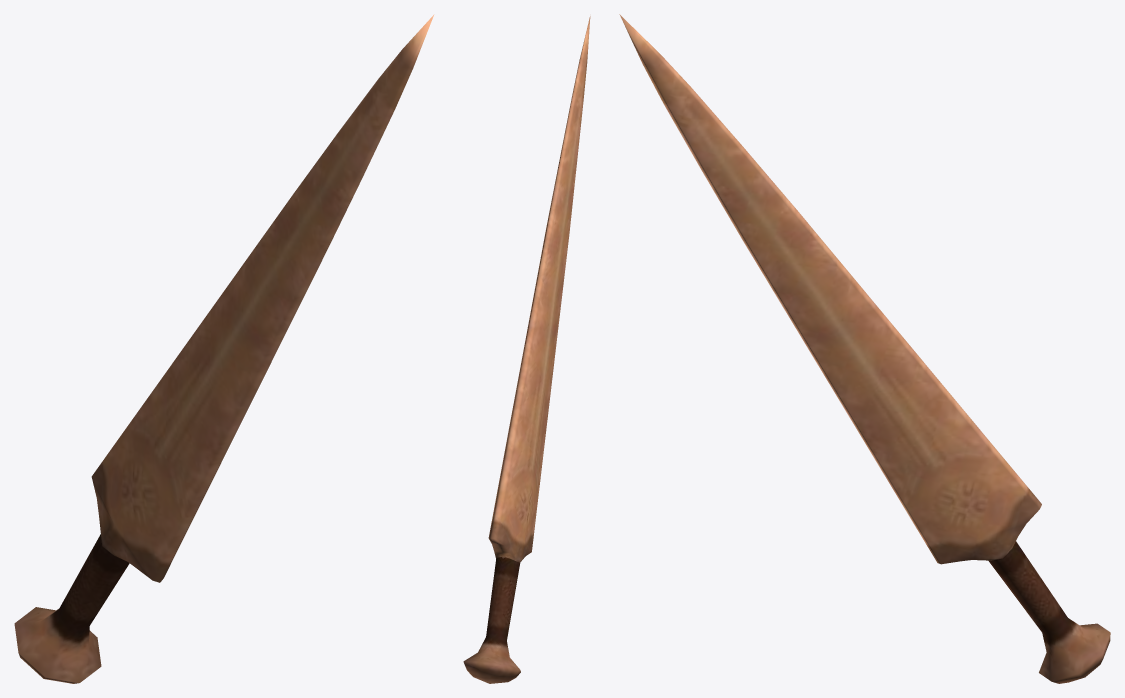
Rendered from weapon-ironweapons.glb.
3 renders of one model, left to right at view 1: azimuth 30°, elevation 25°; view 2: azimuth 150°, elevation 25°; view 3: azimuth 270°, elevation 25°, orthographic. The views are drawn at different scales.
Bounding box in the file's own units: 0.1852 × 0.9546 × 0.5983.
Materials: 1 (1 with a texture image).
